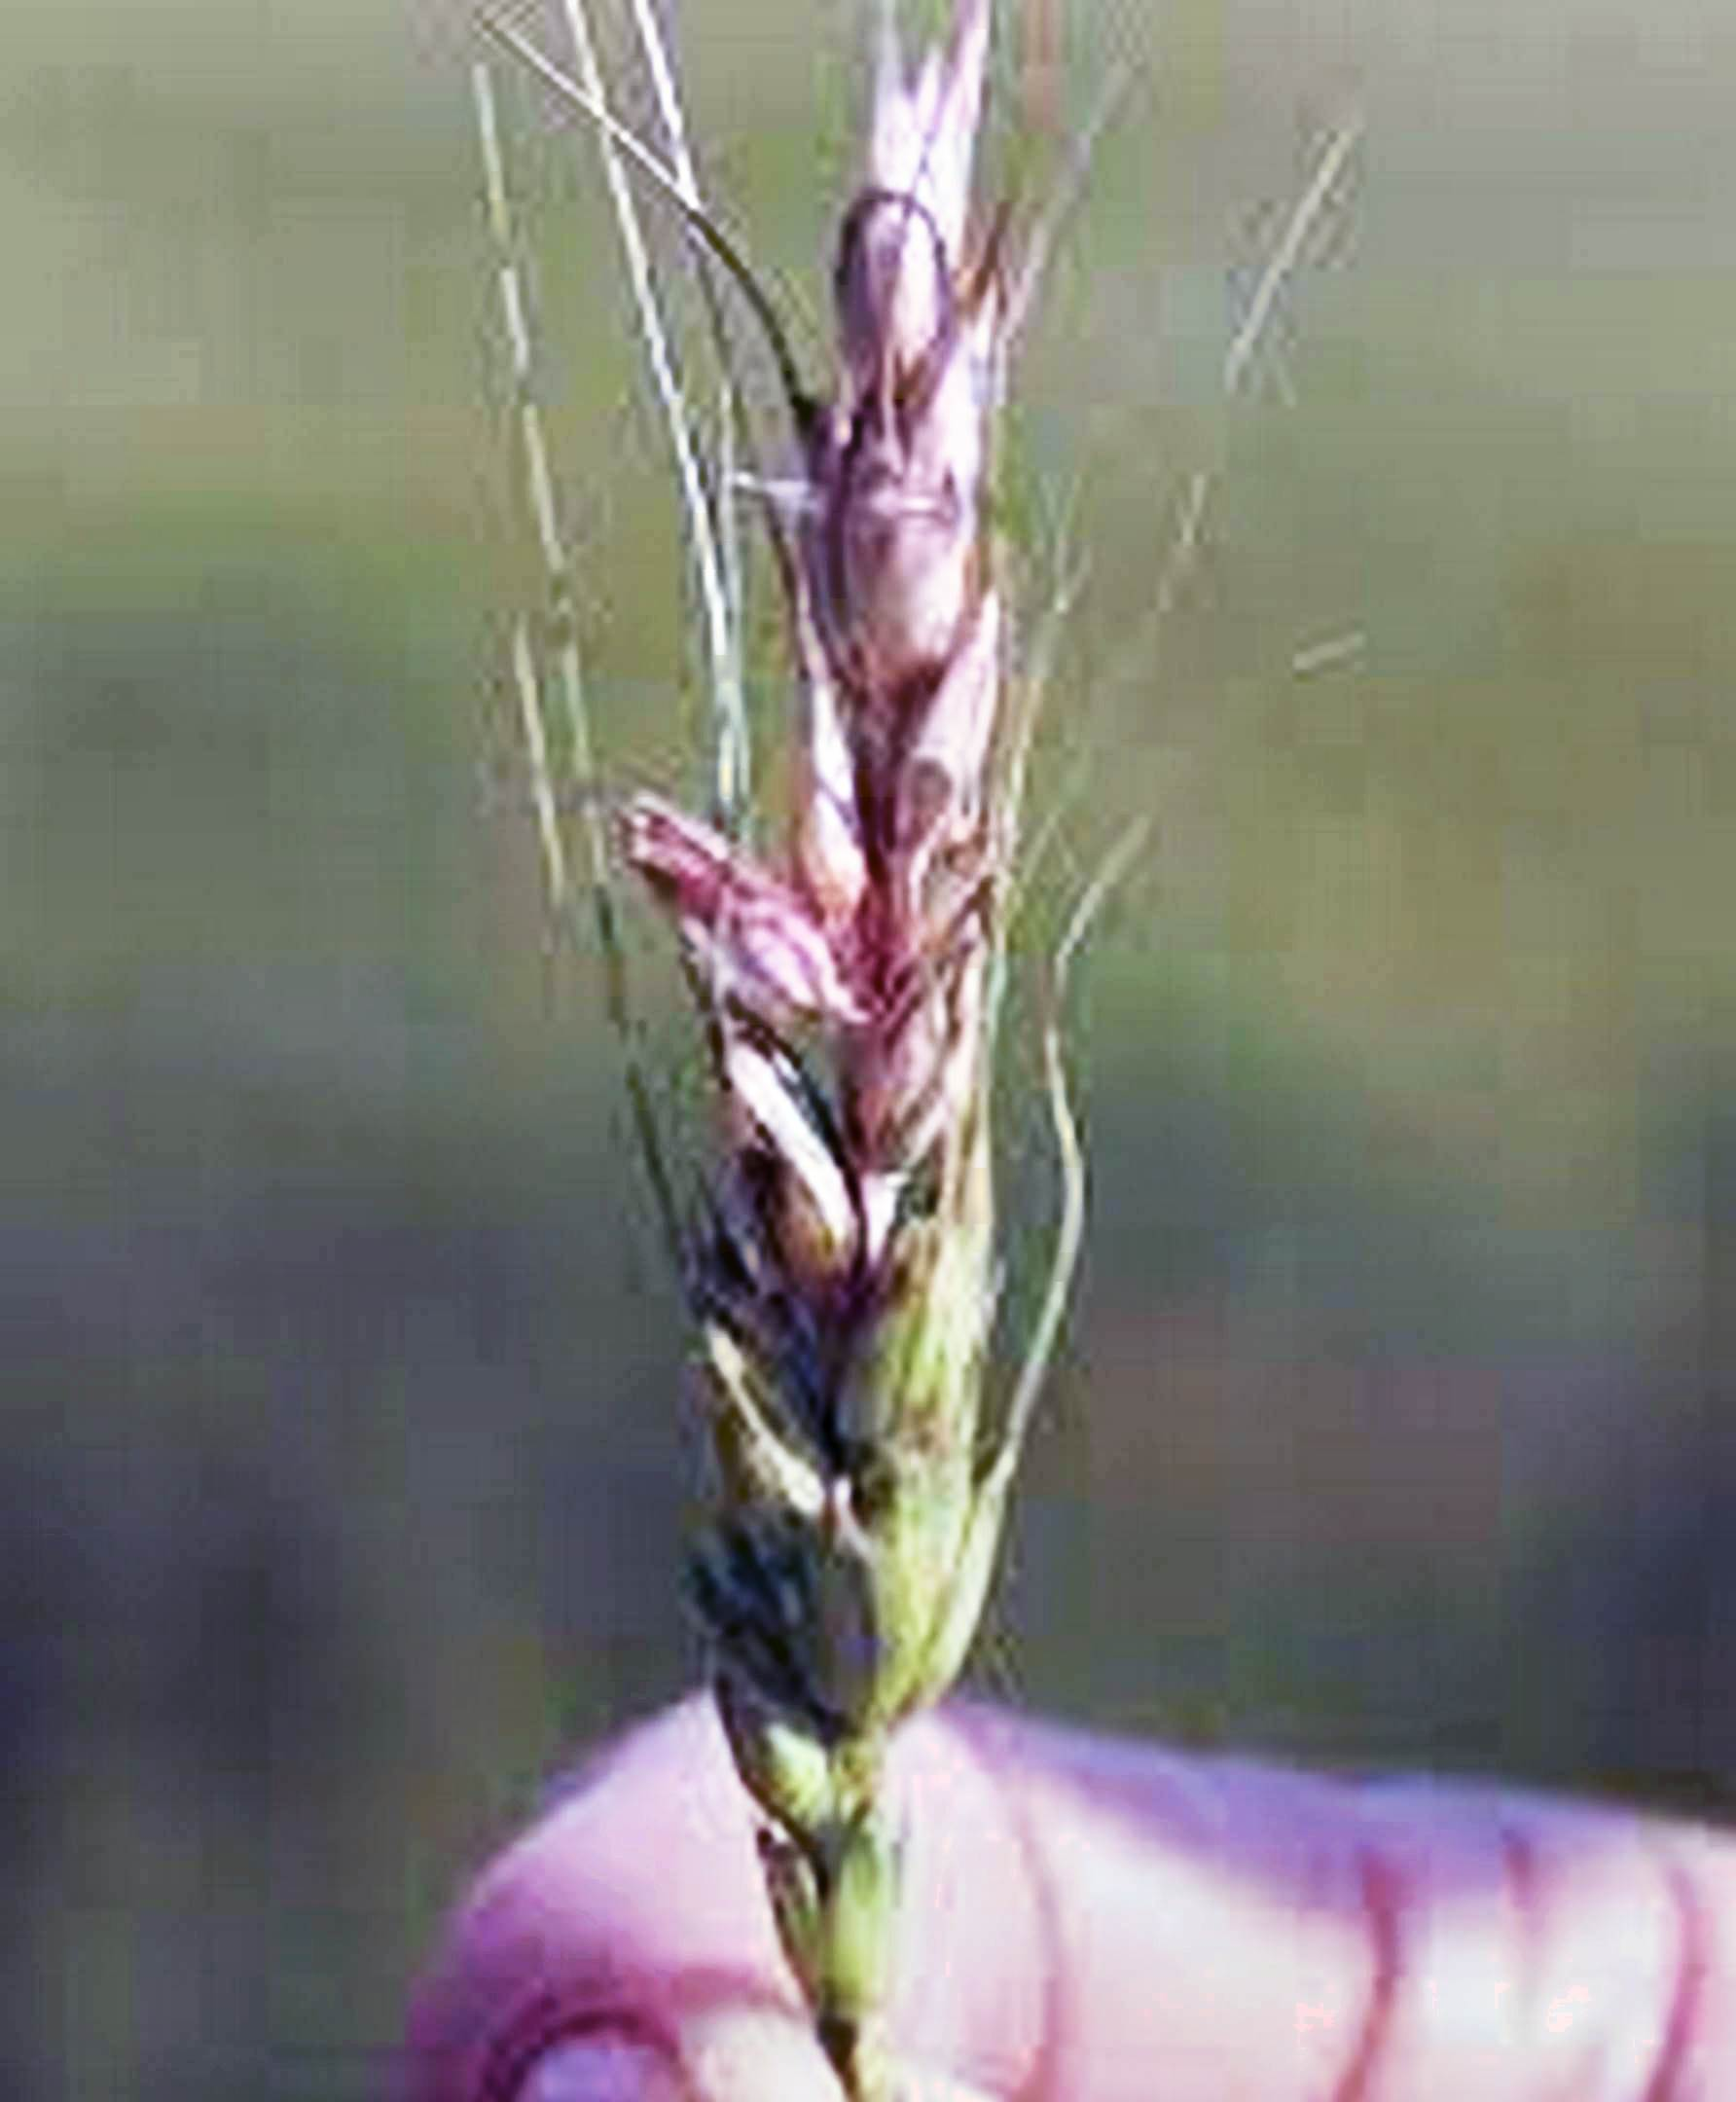Wheat scab: (561, 84, 1123, 1762)
